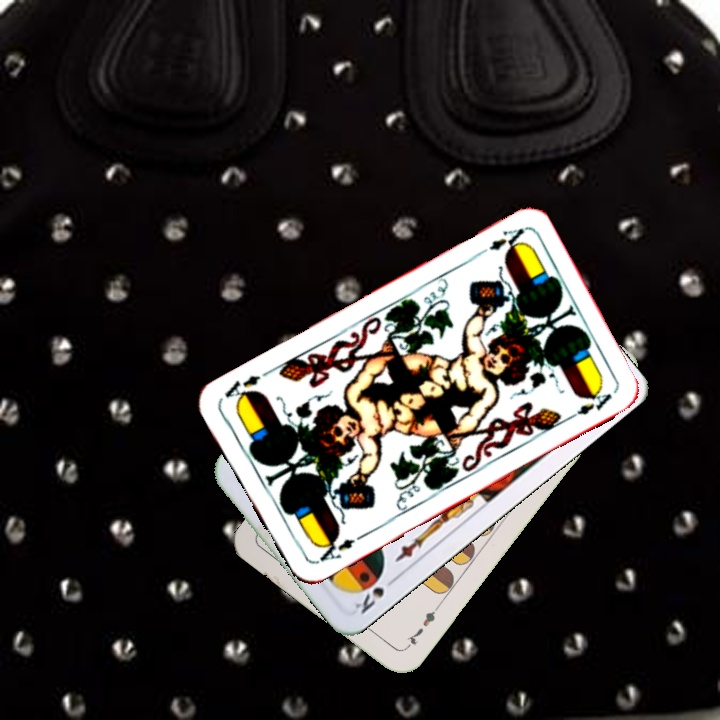E7: (401, 601, 442, 652)
EA: (312, 530, 366, 567), (484, 224, 527, 255)
SK: (350, 572, 400, 617)
